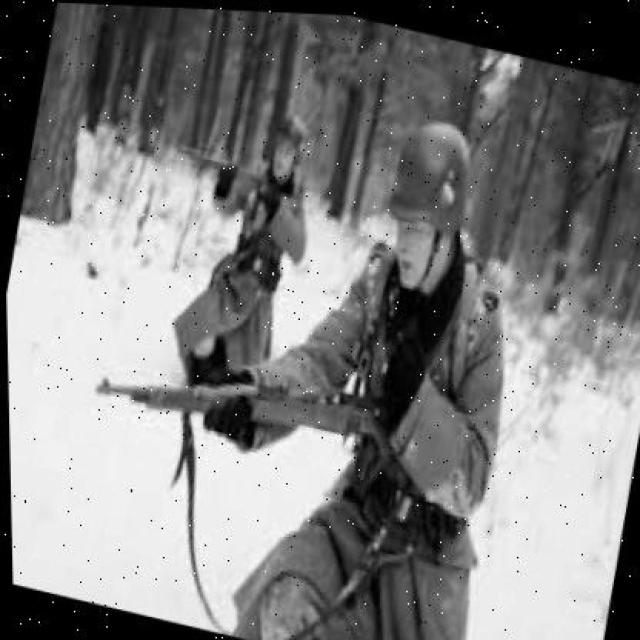weapon: (94, 377, 400, 467)
